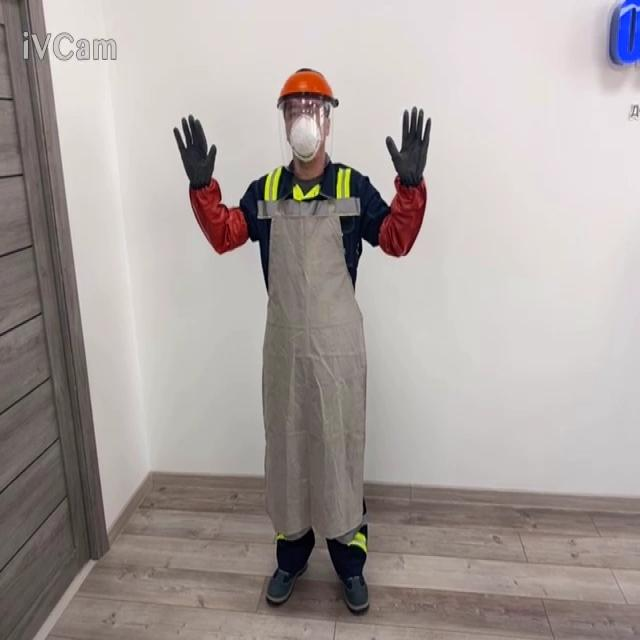Gloves: (385, 105, 431, 187), (173, 114, 216, 190)
Helmet: (276, 67, 338, 108)
Mask: (286, 112, 322, 163)
Protective apron: (257, 167, 368, 541)
Safety Shoes: (265, 560, 308, 604), (342, 572, 369, 611)
Sleeve: (188, 176, 248, 255), (377, 174, 426, 258)
